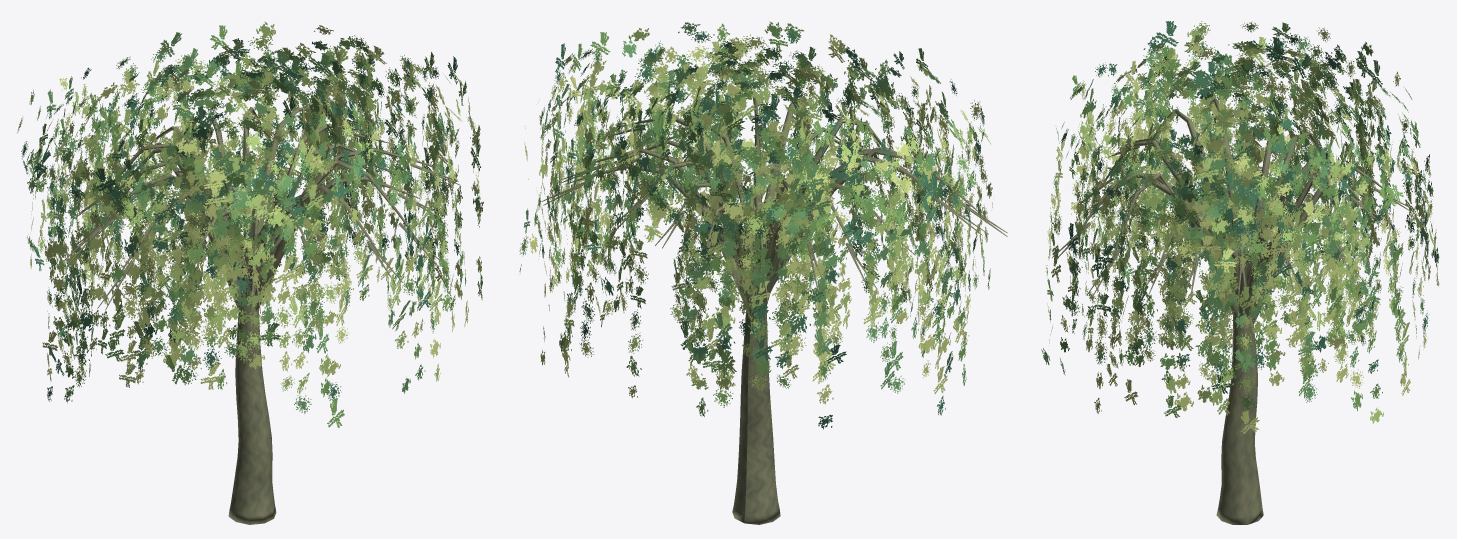
File: Tree_Willow_02_Old_Spreading.glb
3 views of the same model, side by side, from view 1: azimuth 30°, elevation 25°; view 2: azimuth 150°, elevation 25°; view 3: azimuth 270°, elevation 25° (orthographic). The views are drawn at different scales.
Visible parts, largest first — view 1: Tree_Willow_02_Old_Spreading; view 2: Tree_Willow_02_Old_Spreading; view 3: Tree_Willow_02_Old_Spreading.
Boxes of the visible parts, box(x1,y1,x2,y2) form: Tree_Willow_02_Old_Spreading: box(17, 21, 483, 524); Tree_Willow_02_Old_Spreading: box(519, 21, 1007, 524); Tree_Willow_02_Old_Spreading: box(1041, 21, 1439, 524).
Size of the model in its own units: 9.49 by 9.02 by 7.9.
2 materials, 2 textured.
